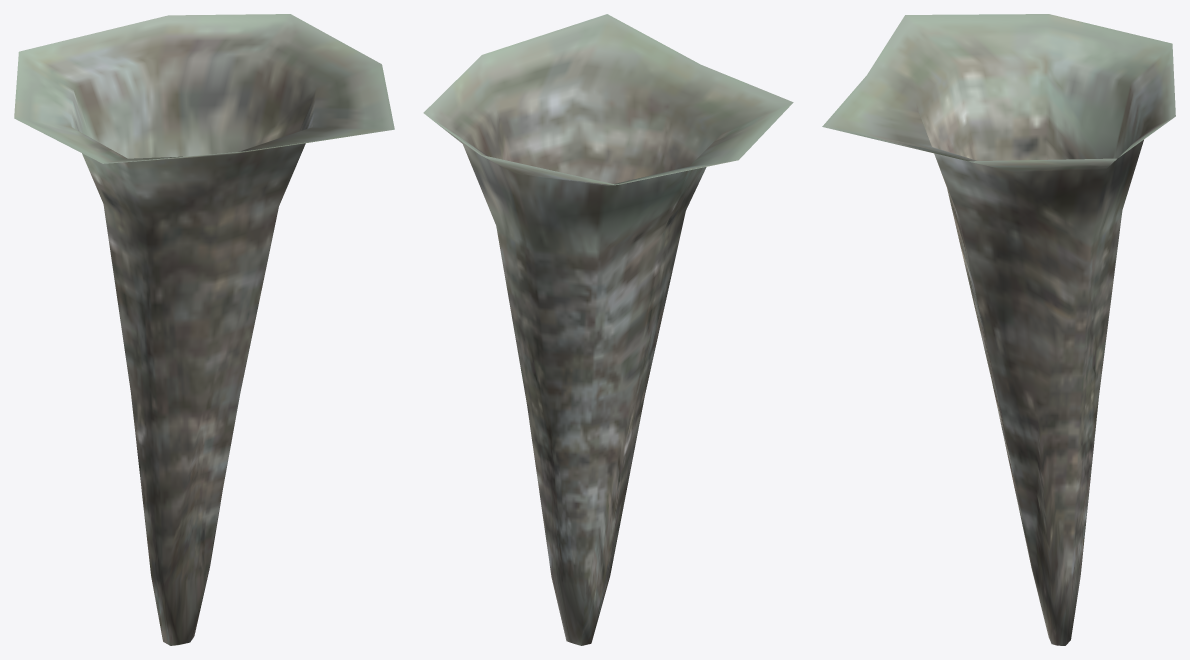
The model's file is TROLLHOLE02_PS-MAINSTALAG87.fbx.
3 views of the same model, side by side, from view 1: azimuth 30°, elevation 25°; view 2: azimuth 150°, elevation 25°; view 3: azimuth 270°, elevation 25° (orthographic). The views are drawn at different scales.
Visible parts, largest first — view 1: TROLLHOLE02_PS-MAINSTALAG87; view 2: TROLLHOLE02_PS-MAINSTALAG87; view 3: TROLLHOLE02_PS-MAINSTALAG87.
Boxes of the visible parts, x1,y1,x2,y2 form: TROLLHOLE02_PS-MAINSTALAG87: [14, 14, 394, 645]; TROLLHOLE02_PS-MAINSTALAG87: [423, 14, 793, 645]; TROLLHOLE02_PS-MAINSTALAG87: [822, 14, 1175, 645].
Size of the model in its own units: 23019 by 39419 by 22522.
Materials: 1 (1 with a texture image).
